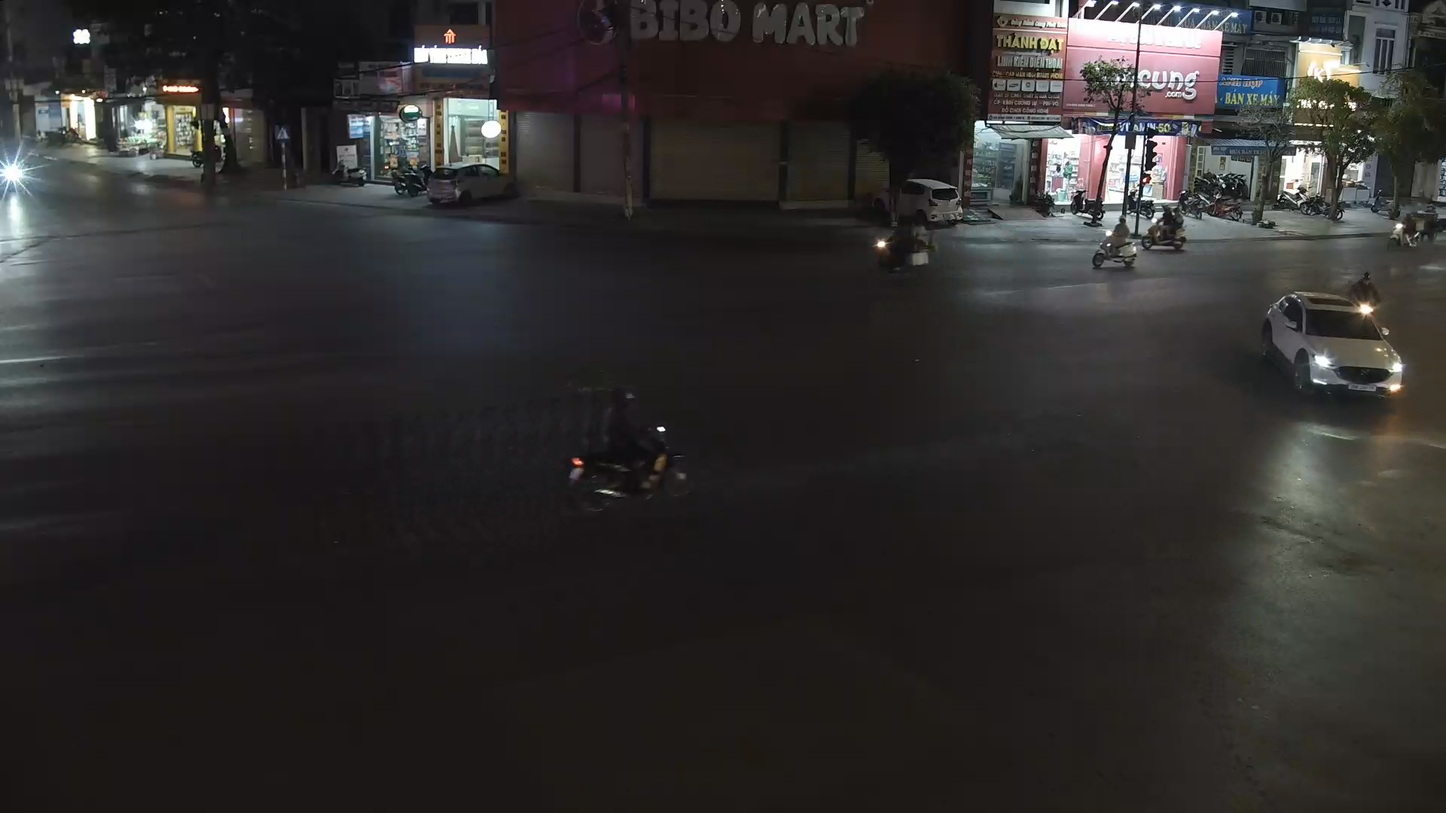car: (1257, 280, 1407, 399)
motorbike: (565, 385, 692, 515), (871, 225, 934, 277), (1089, 214, 1142, 272), (1137, 197, 1190, 252)
